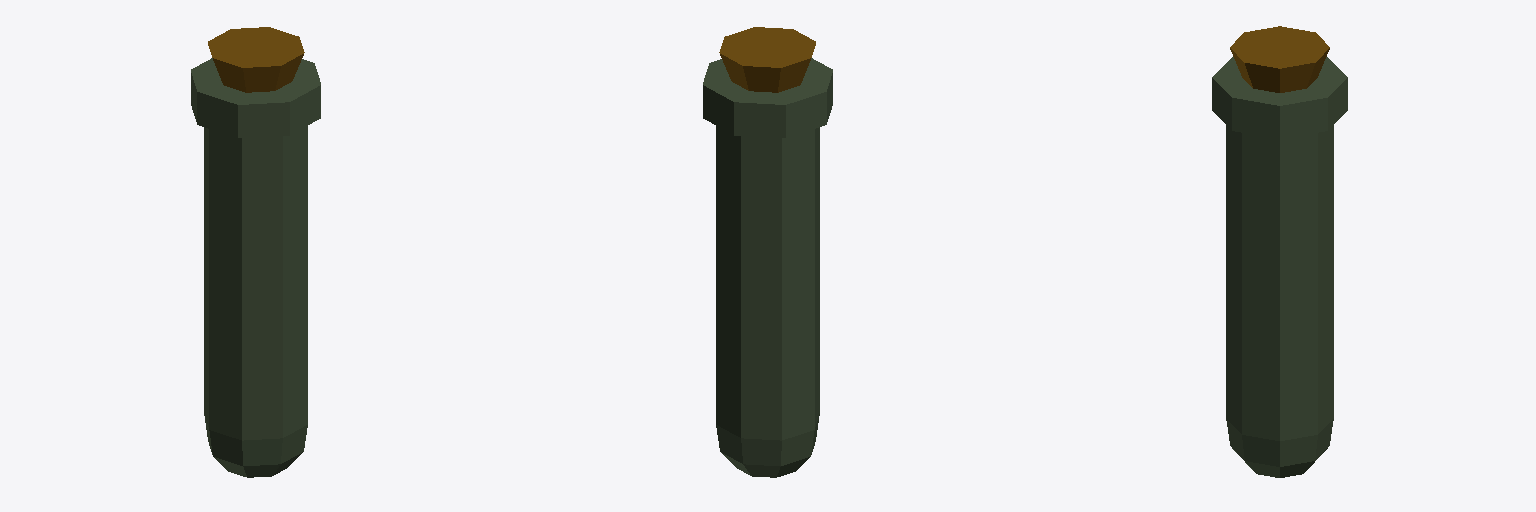
Rendered from Antidote.obj.
3 views of the same model, side by side, from view 1: azimuth 30°, elevation 25°; view 2: azimuth 150°, elevation 25°; view 3: azimuth 270°, elevation 25° (orthographic).
Parts seen in each view (by area): view 1: Antidote_Circle.006; view 2: Antidote_Circle.006; view 3: Antidote_Circle.006.
Boxes of the visible parts, box(x1,y1,x2,y2) form: Antidote_Circle.006: box(191, 27, 320, 477); Antidote_Circle.006: box(703, 27, 832, 477); Antidote_Circle.006: box(1212, 26, 1347, 477).
Bounding box in the file's own units: 2.2 × 7.46 × 2.2.